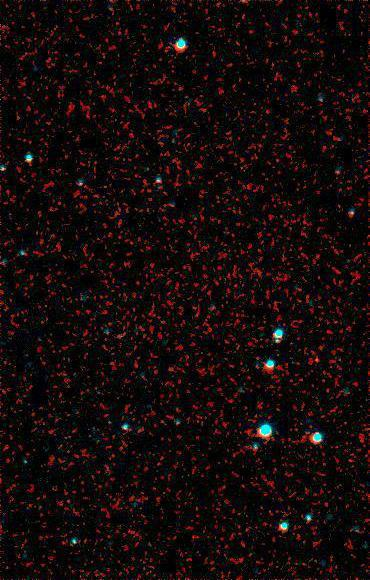star: (299, 342, 329, 372)
